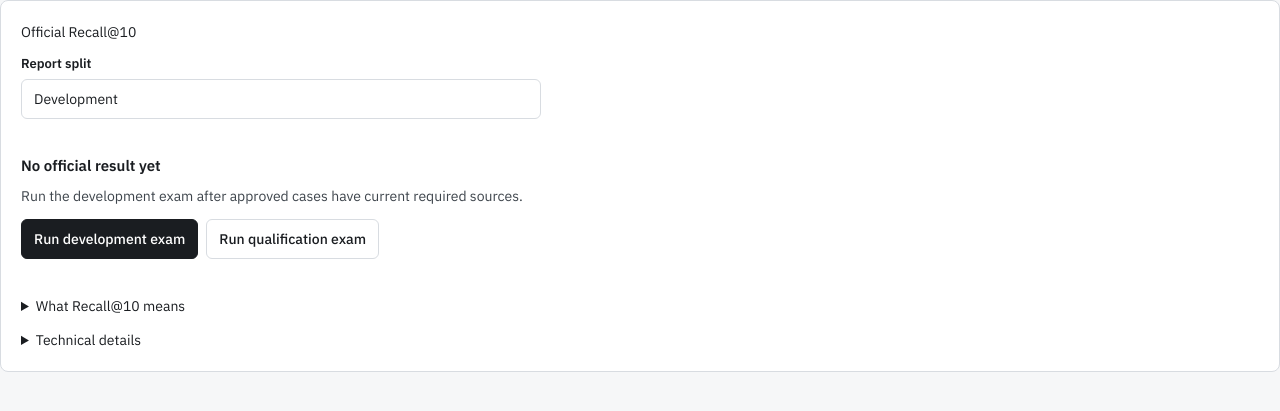
Test: EvaluationExamBoard › shows present=false without a gates_pass label
Check: the heading "No official result yet" is shown, box [21,155,161,177]
Click the heading "What Recall@10 means": [110, 306] box [36,297,185,315]
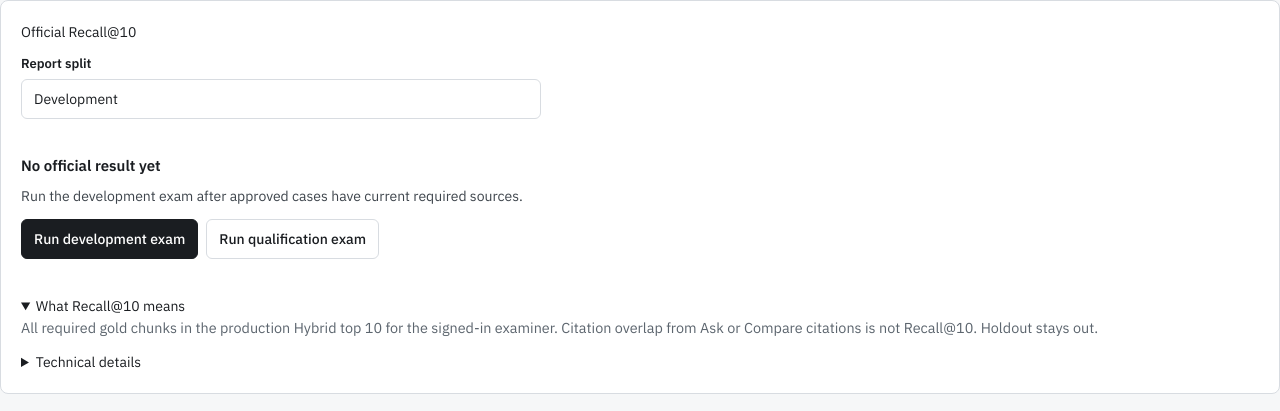
Check: the text "All required gold chunks in the production Hybrid top 10" is shown, box [21,318,382,337]
